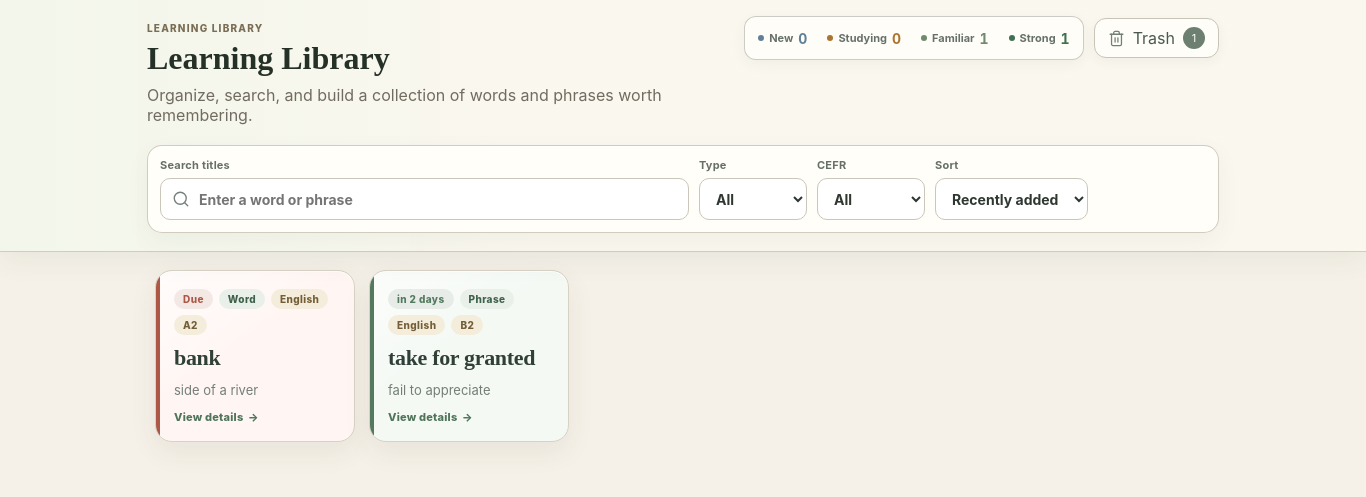
Test: LearningLibraryWorkspace › loads cards and combines title, type, CEFR, and sort controls
The image size is (1366, 497).
Expected: the button "Due Word English A2 bank side of a river View details →" is shown, [155,270,355,442]
Expected: the 1st icon is shown, [1108,30,1125,46]
Type "take" into the search field named "Search card titles". click: [424, 199]
box: [160,178,689,220]
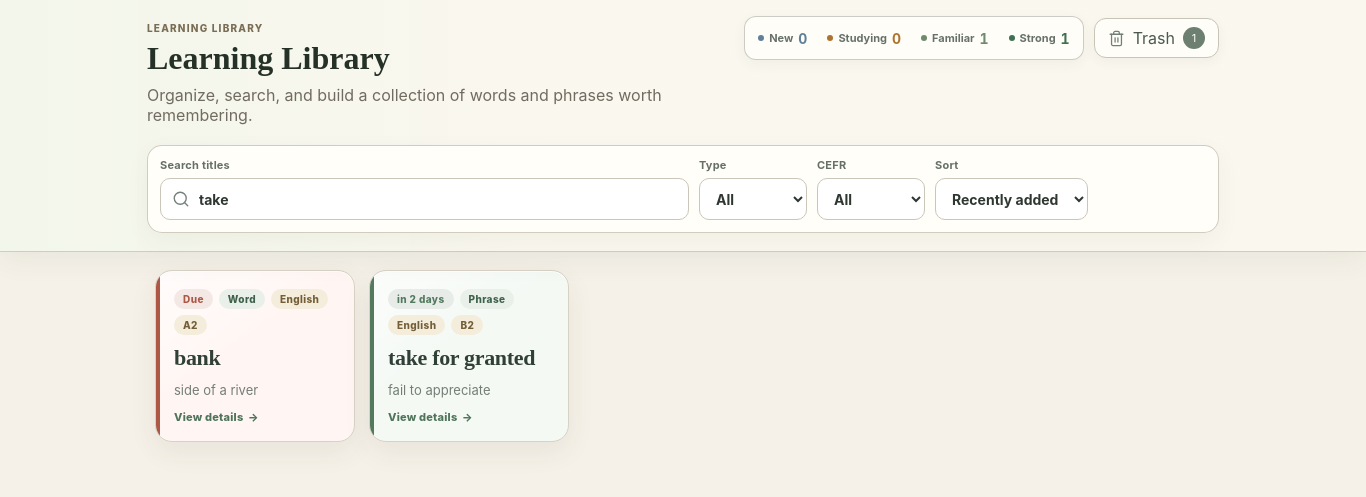
Select "Phrases" in the dropdown labelled "Type". click: [753, 199]
box: [699,178,807,220]
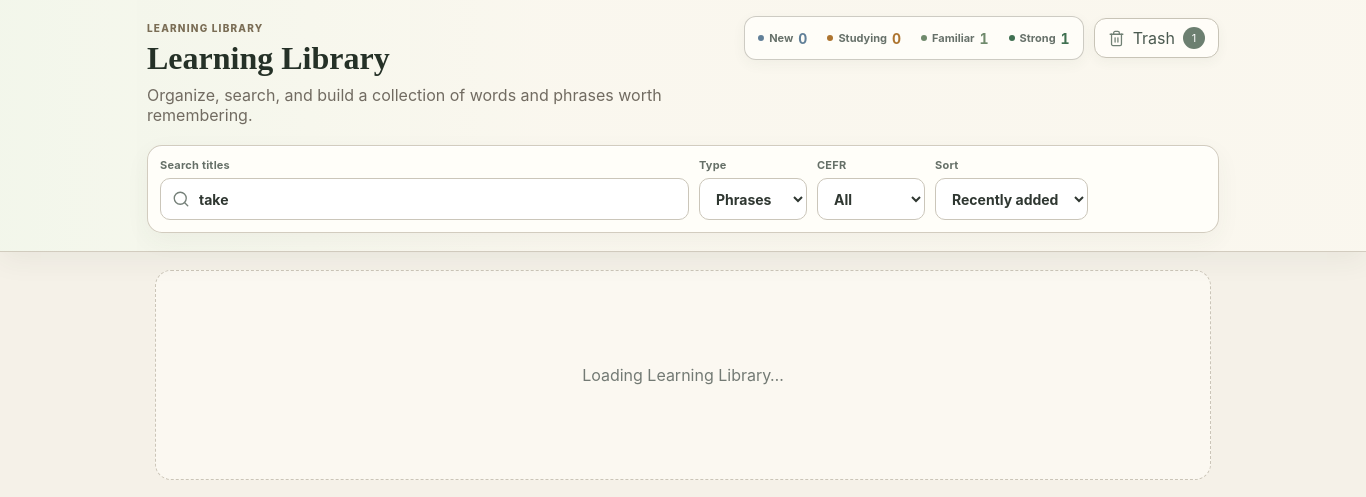
Select "B2" in the dropdown labelled "CEFR". click: [871, 199]
box: [817,178,925,220]
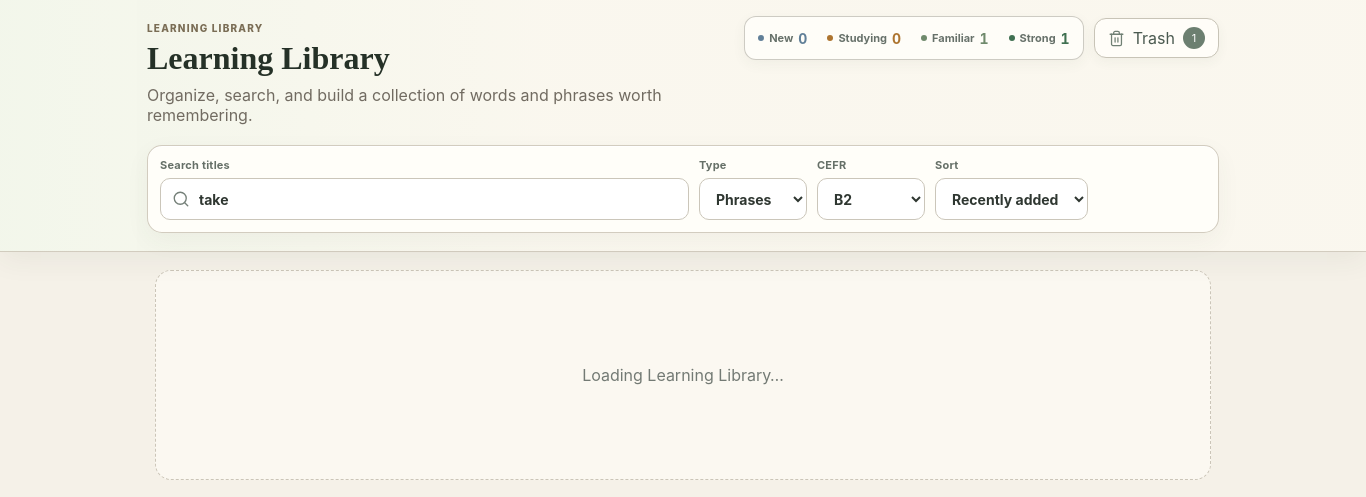
Select "Alphabetical" in the dropdown labelled "Sort". click: [1012, 199]
box: [935,178,1088,220]
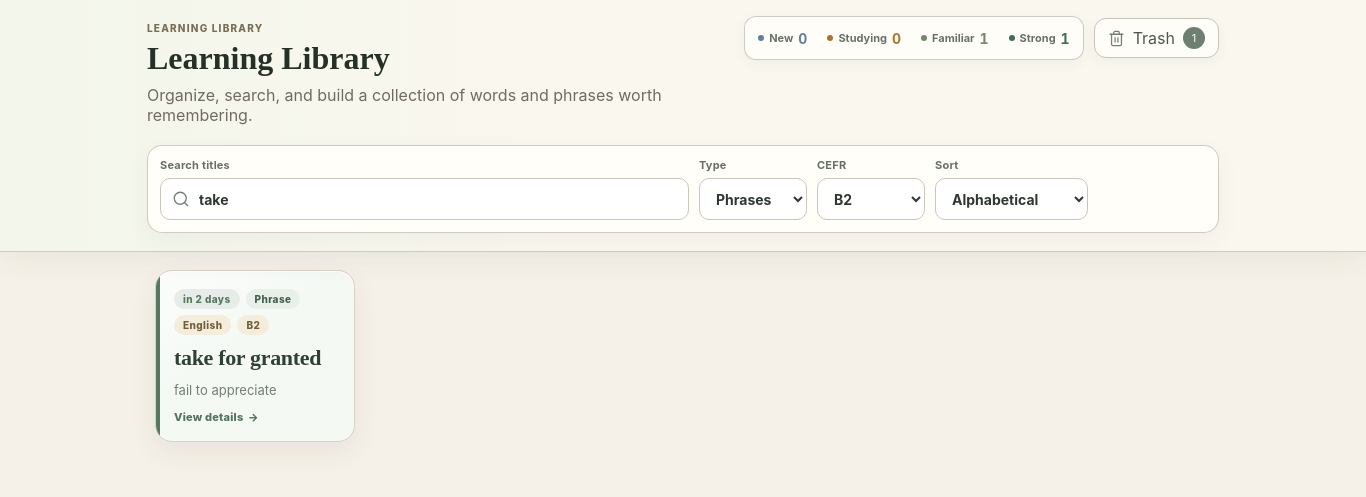
Result: the button "take for granted" is shown at [155,270,355,442]
